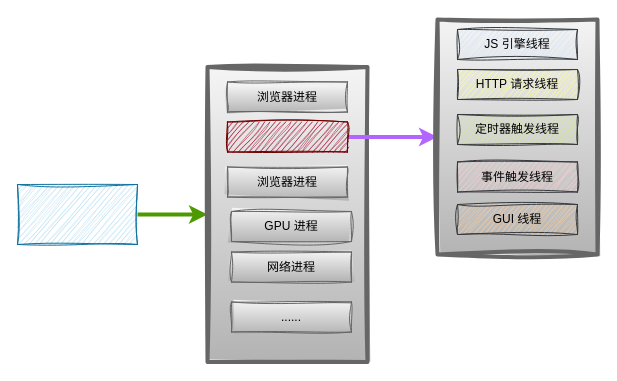
This 617x381 diagram has some shape labels left out. Each missing label, with the centre of its shape:
浏览器: point 77,214
渲染进程: point 287,136
